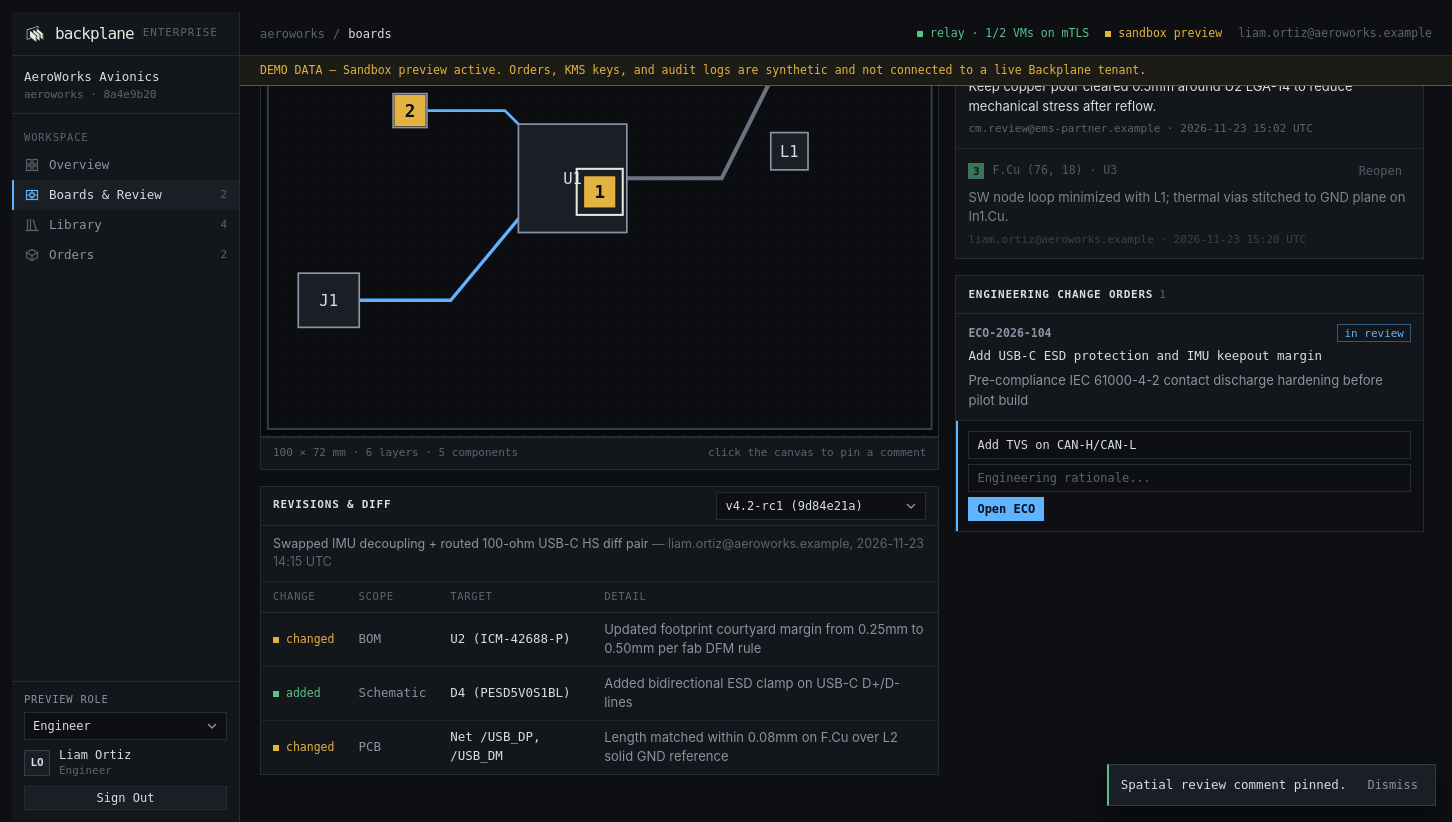
Test case: Backplane Enterprise Web Portal E2E Workflows › renders OAuth/SSO login and supports Engineer Co-Dev pin-drop comments, DEMO DATA banner & ECO creation
The width and height of the screenshot is (1452, 822).
Earlier steps of the test are not shown.
(page scrolled)
Type "ISO 11898 surge protection" into the field with placeholder "Engineering rationale..." at (1190, 478), box [968,464,1411,492]
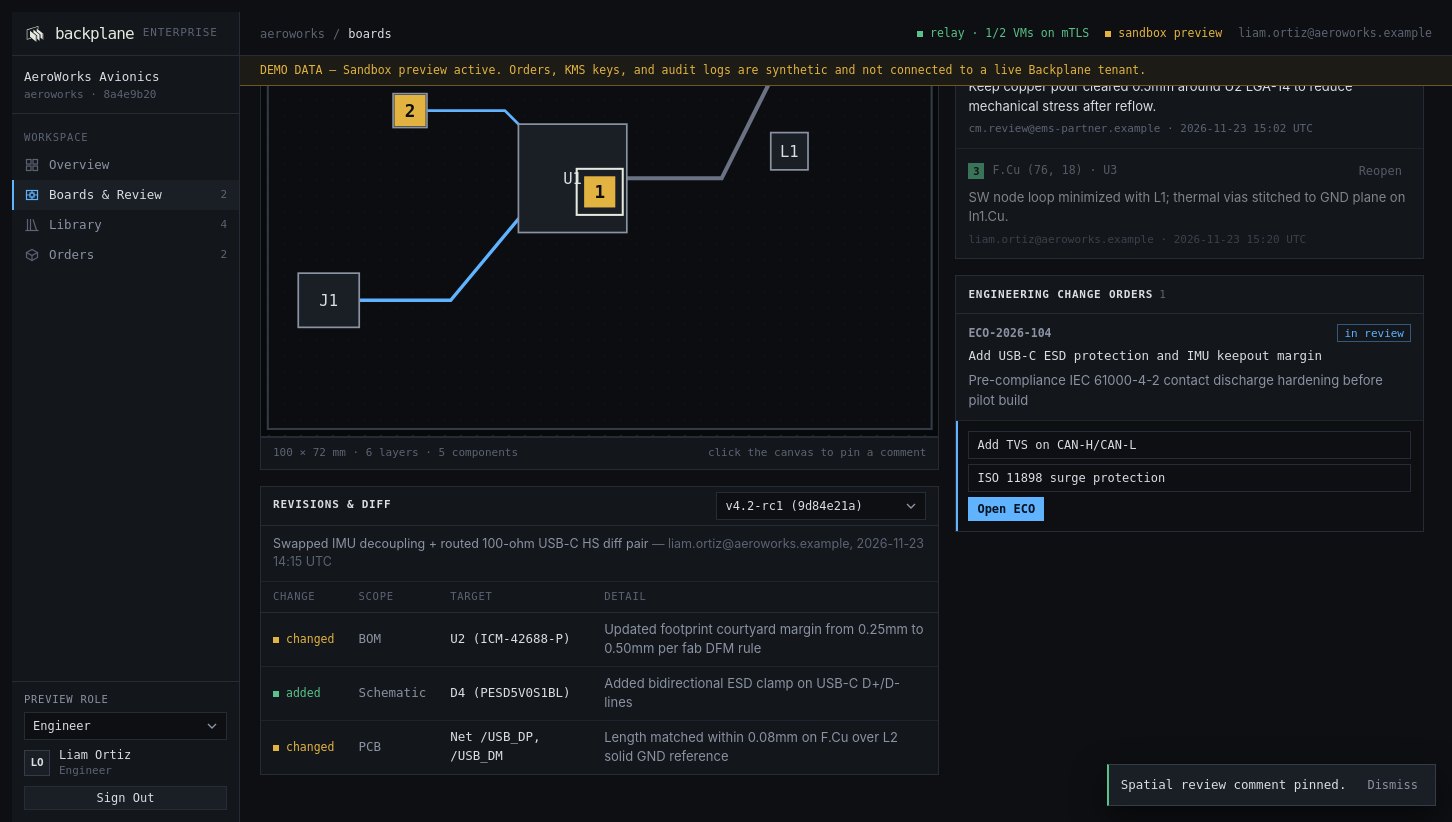
Click the button "Open ECO" at (1006, 509), box [968,497,1044,521]
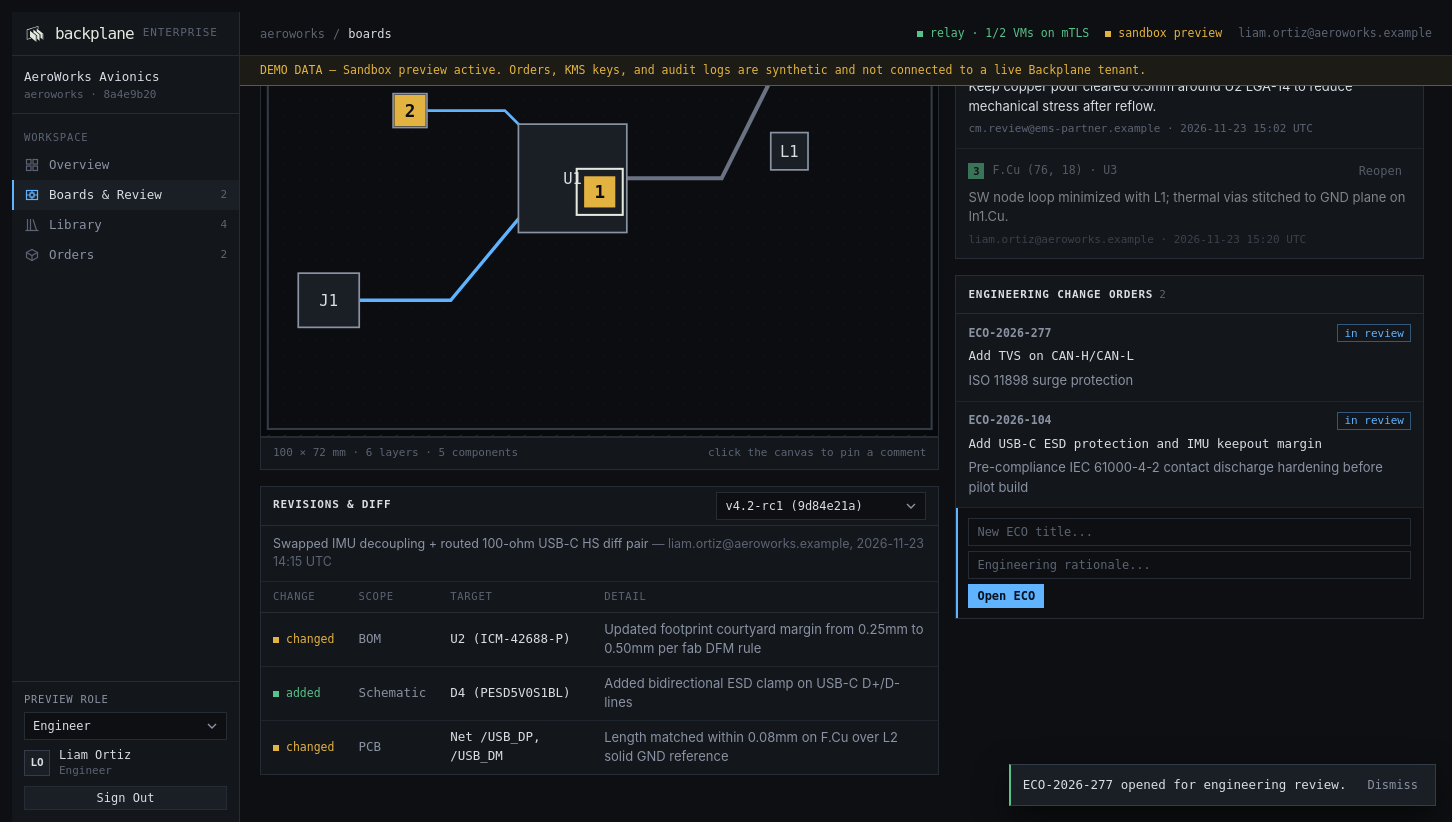
expect the text "Add TVS on CAN-H/CAN-L" is shown: met, box [968,348,1134,363]
